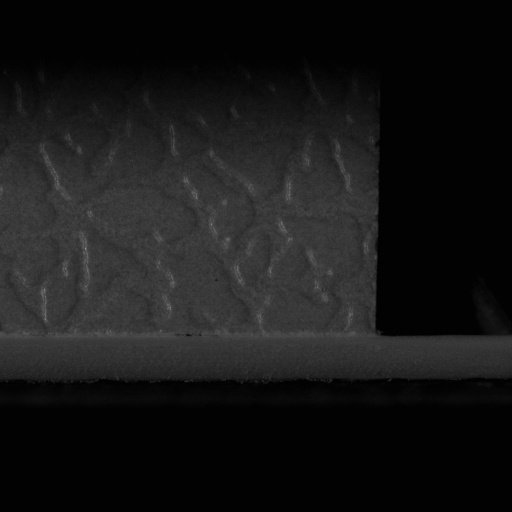changdai: (371, 329, 511, 384)
